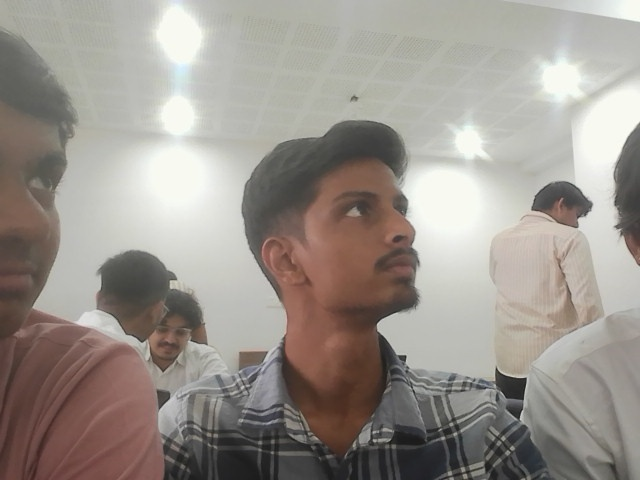light_off: (629, 6, 640, 25)
light_on: (151, 87, 203, 133), (446, 119, 488, 152), (536, 61, 563, 90)
person: (0, 25, 162, 478), (522, 122, 639, 479), (457, 180, 614, 411), (144, 290, 232, 417)
